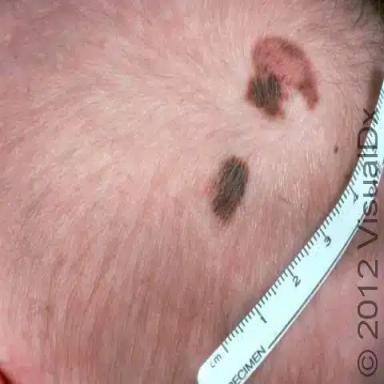nevus: (245, 36, 319, 120), (208, 155, 249, 227)
